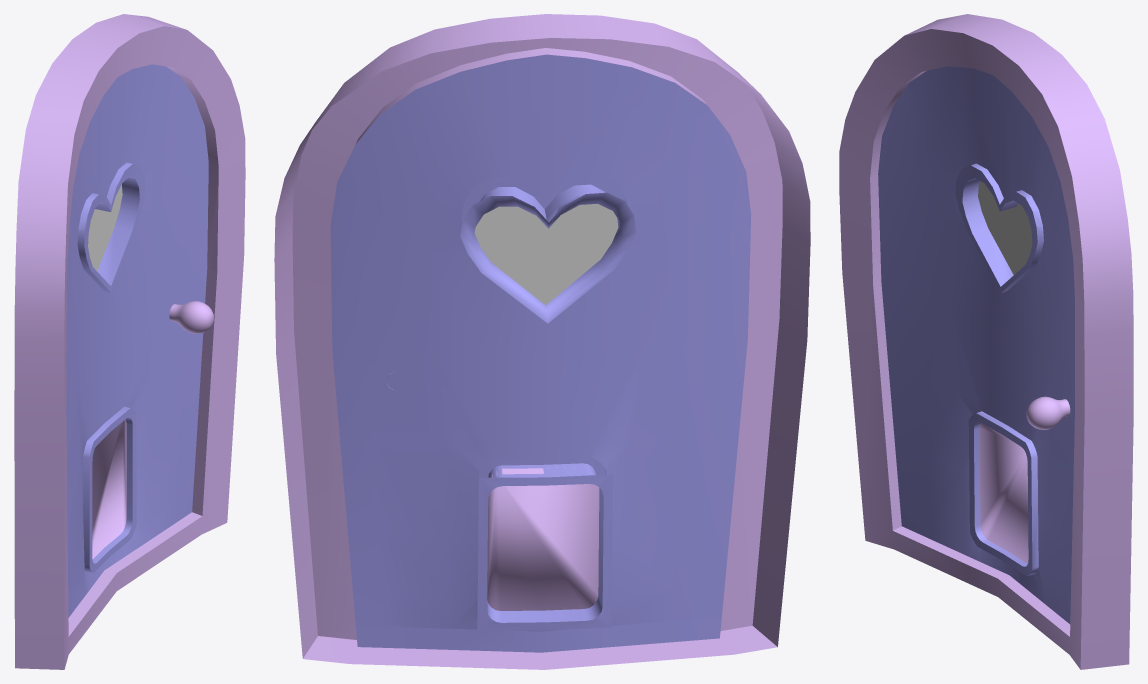
File: ovivärit.fbx
3 renders of one model, left to right at view 1: azimuth 30°, elevation 25°; view 2: azimuth 150°, elevation 25°; view 3: azimuth 270°, elevation 25°, orthographic. The views are drawn at different scales.
Visible parts, largest first — view 1: ovi, luukku; view 2: ovi, luukku; view 3: ovi, luukku.
Boxes of the visible parts, x1,y1,x2,y2 form: ovi: (14,14,245,669); luukku: (92,419,126,559); ovi: (274,14,810,669); luukku: (487,466,599,610); ovi: (839,14,1133,669); luukku: (979,423,1028,563).
Bounding box in the file's own units: 2.07 × 3.18 × 1.54.
